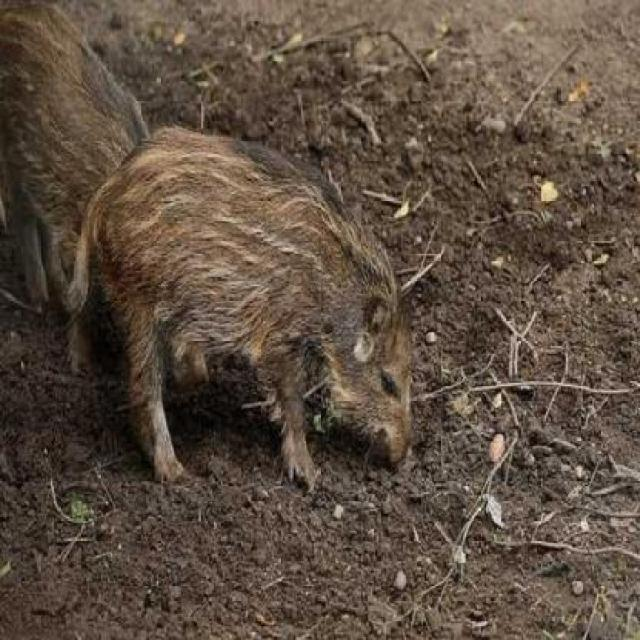pig: (88, 143, 426, 521)
